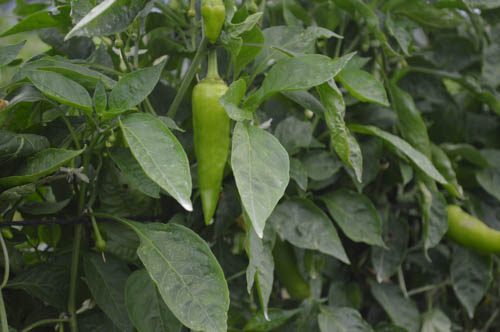ChiliPepper: (191, 83, 230, 228), (437, 201, 497, 263), (199, 3, 226, 46)
